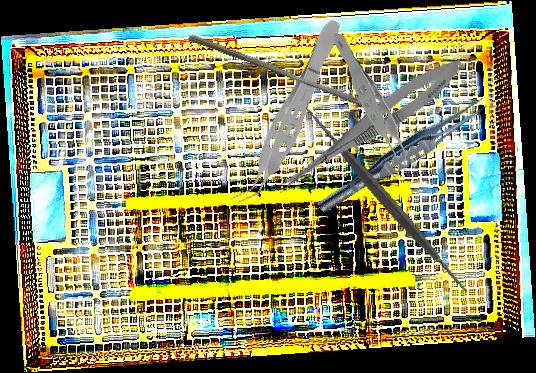Micro Scissor: (271, 49, 470, 206)
Pusher: (185, 33, 381, 114)
Spatula Surgical: (279, 92, 494, 307)
Tissue Forceps: (229, 13, 351, 214), (314, 89, 492, 222), (323, 33, 415, 177)
